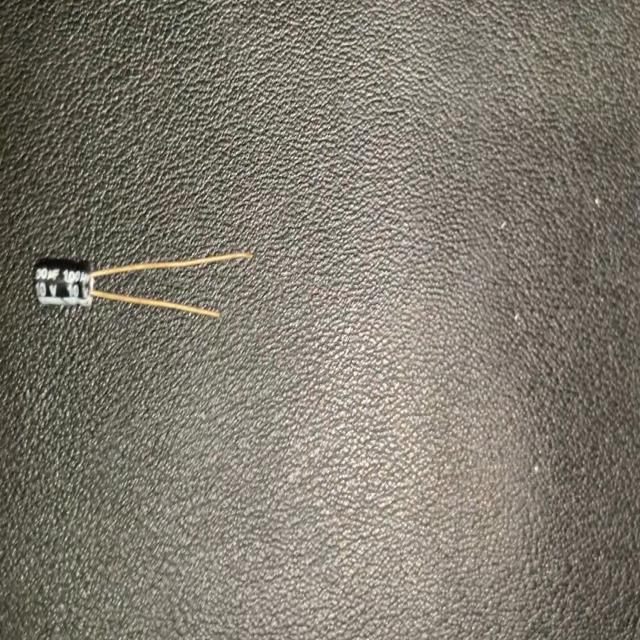capacitor: (29, 245, 251, 323)
